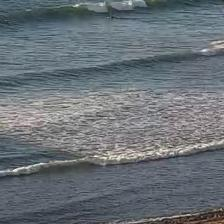surfer: (109, 16, 118, 20), (61, 0, 66, 2)
